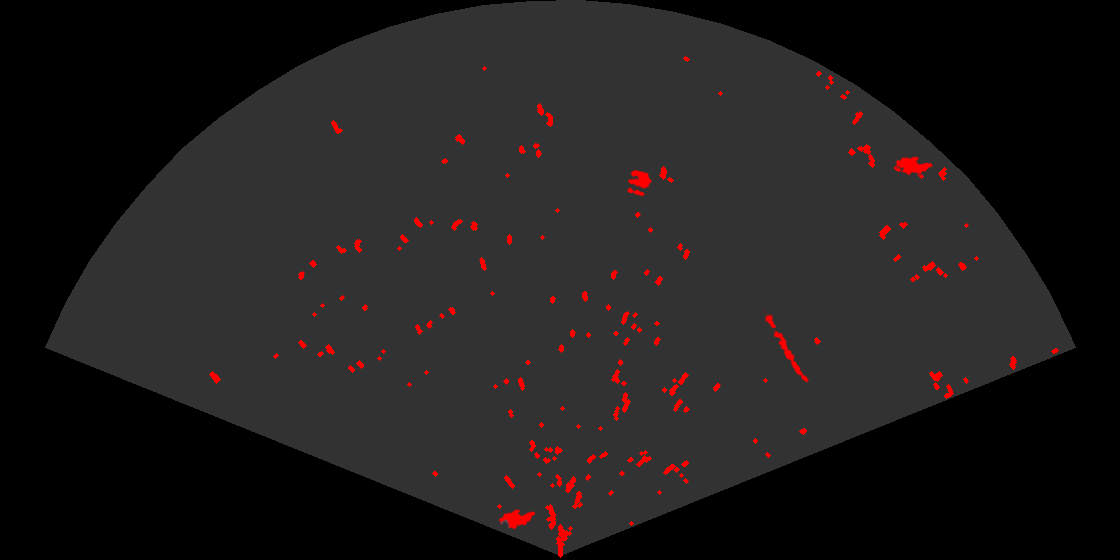AUV: (497, 508, 537, 531), (894, 155, 935, 177)
ball: (625, 168, 653, 198)
chain: (761, 309, 810, 384)
